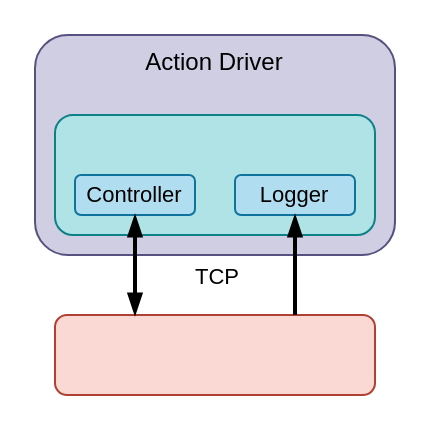
The diagram is 430 pixels wide and 430 high, and some of its shapes have lost their labels. The shapes that lost their labels are listed below. From the top down, each one's box as (x1, y1, x2, y2) in pixels, then its label:
(53, 113, 375, 235): Nanonis-rs
(53, 313, 375, 395): Nanonis User Interface
